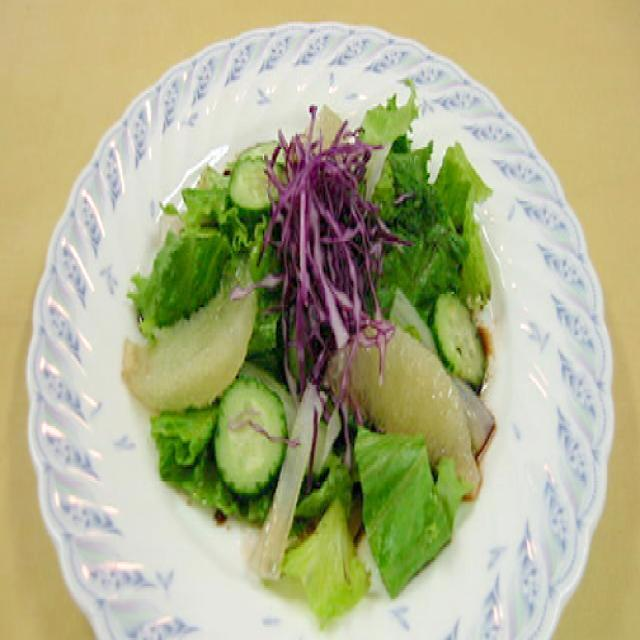Green Salad: (132, 100, 500, 574)
